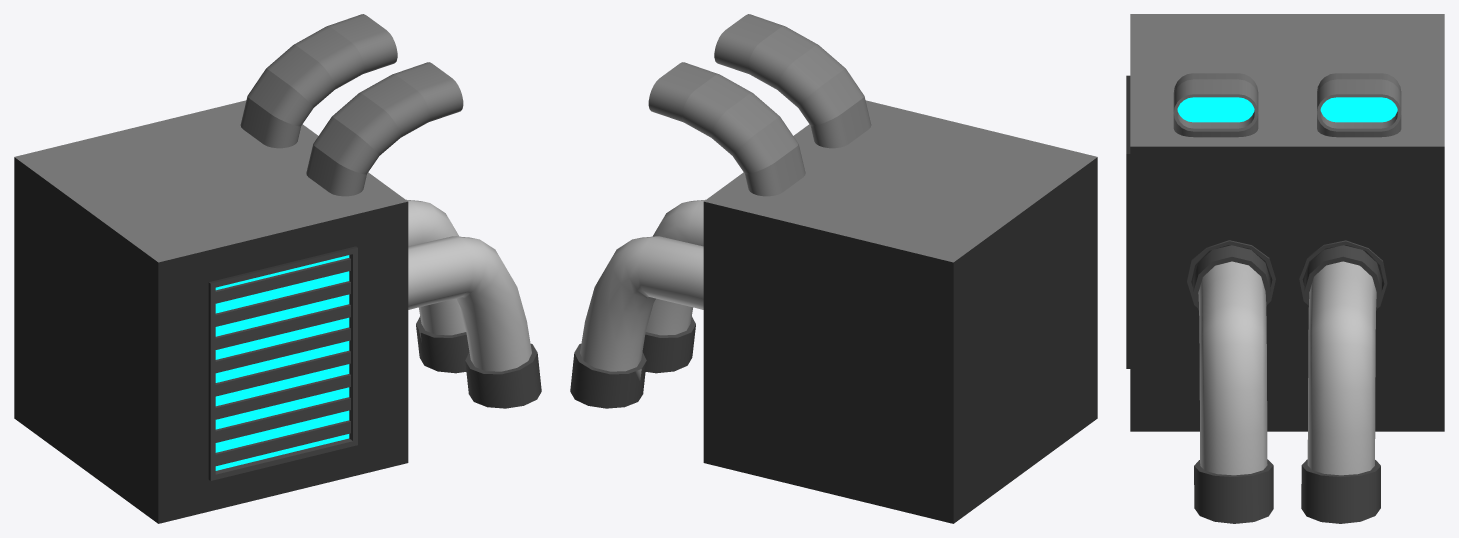
File: SM_Prop_A.fbx
3 renders of one model, left to right at view 1: azimuth 30°, elevation 25°; view 2: azimuth 150°, elevation 25°; view 3: azimuth 270°, elevation 25°, orthographic. The views are drawn at different scales.
Parts seen in each view (by area): view 1: SM_Prop_A; view 2: SM_Prop_A; view 3: SM_Prop_A.
Part boxes in pixels (x1,y1,x2,y2): SM_Prop_A: (14,14,541,523); SM_Prop_A: (570,14,1097,523); SM_Prop_A: (1126,14,1444,523).
Size of the model in its own units: 98.92 by 76.92 by 58.79.
